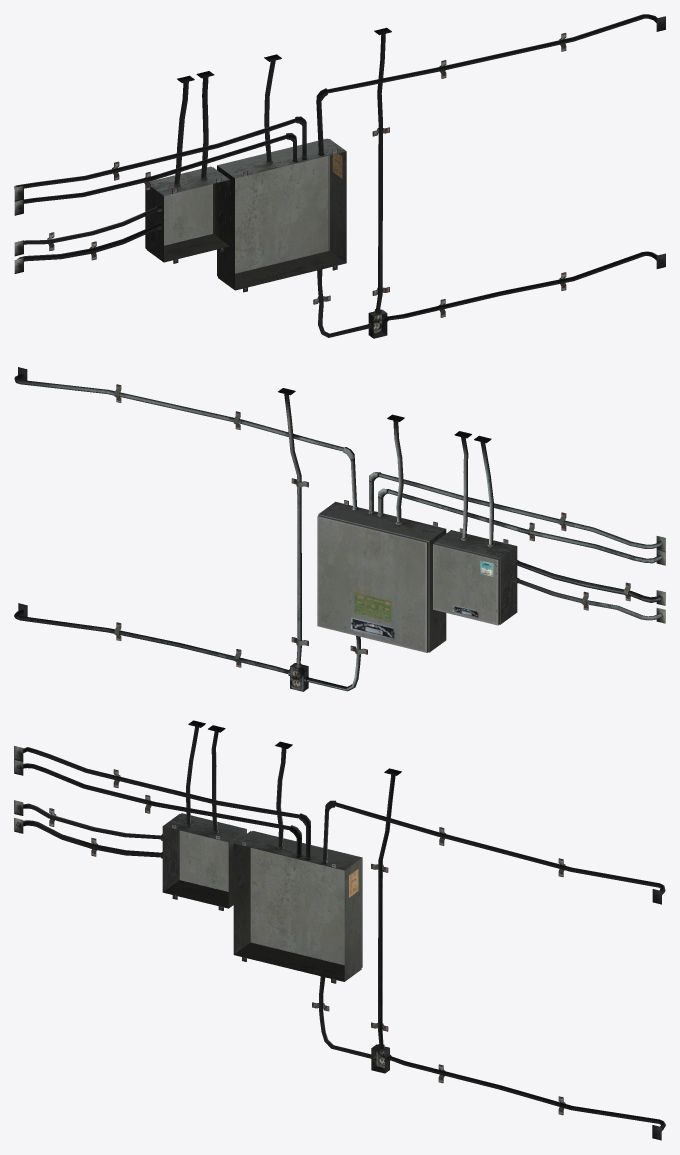
File: electrical_panel2.fbx
The picture shows the model from 3 angles, top to bottom: view 1: azimuth 30°, elevation 25°; view 2: azimuth 150°, elevation 25°; view 3: azimuth 330°, elevation 25°; orthographic projection.
Parts seen in each view (by area): view 1: electrical_panel2.001; view 2: electrical_panel2.001; view 3: electrical_panel2.001.
Part boxes in pixels (<box>): electrical_panel2.001: <box>14,14,665,338</box>; electrical_panel2.001: <box>14,367,665,691</box>; electrical_panel2.001: <box>14,720,665,1140</box>.
Bounding box in the file's own units: 6.25 × 2.75 × 0.3154.
Materials: 1 (1 with a texture image).
